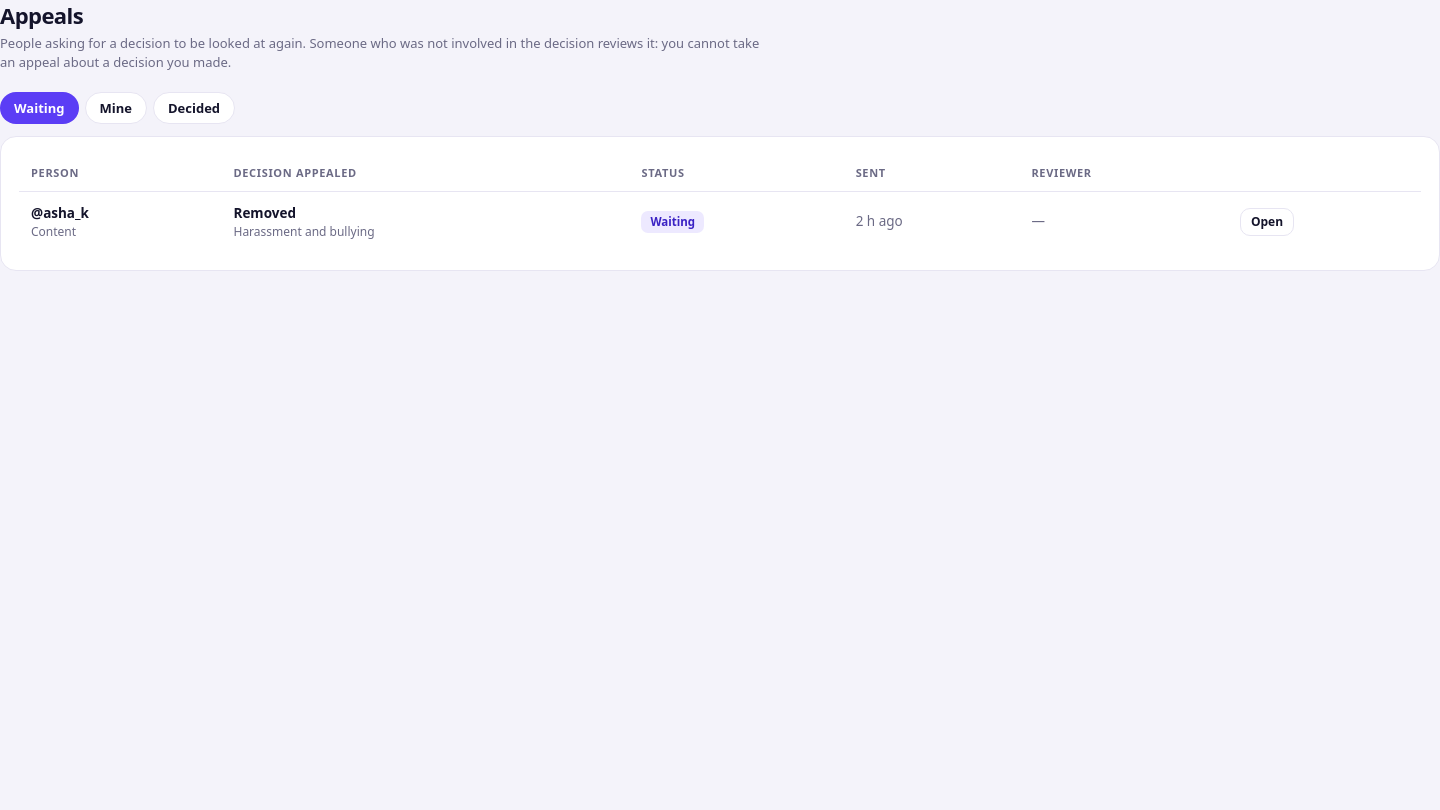
Test: one appeal › shows what they say, the decision with its staff note, and what it was about
Click the button with aria-label "Open appeal from asha_k": (1267, 222) [1240,208,1294,236]
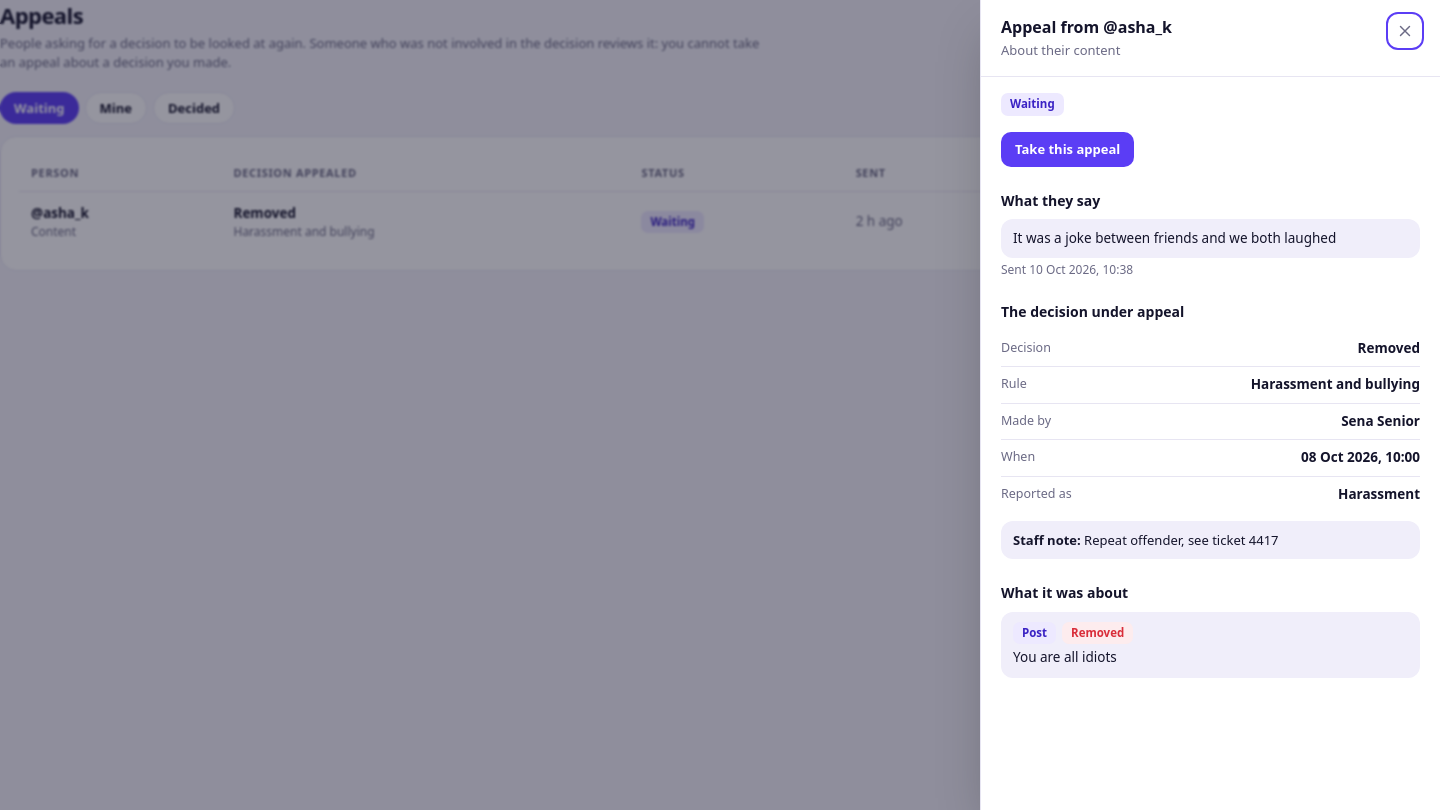
Result: the dialog "Appeal from @asha_k" is shown at [980,0,1439,809]
Result: the text "It was a joke between friends and we both laughed" is shown at [1001,219,1420,258]
Result: the text "Sena Senior" is shown at [1341,412,1420,431]
